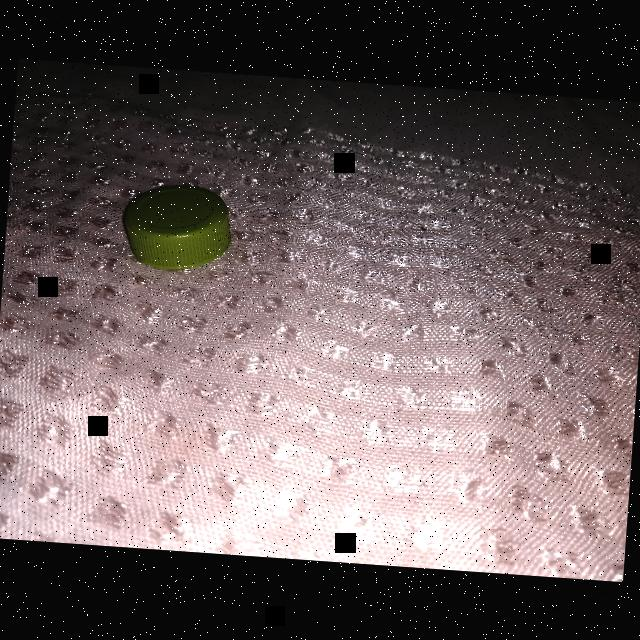plastic_bottle_cap: (118, 178, 235, 276)
